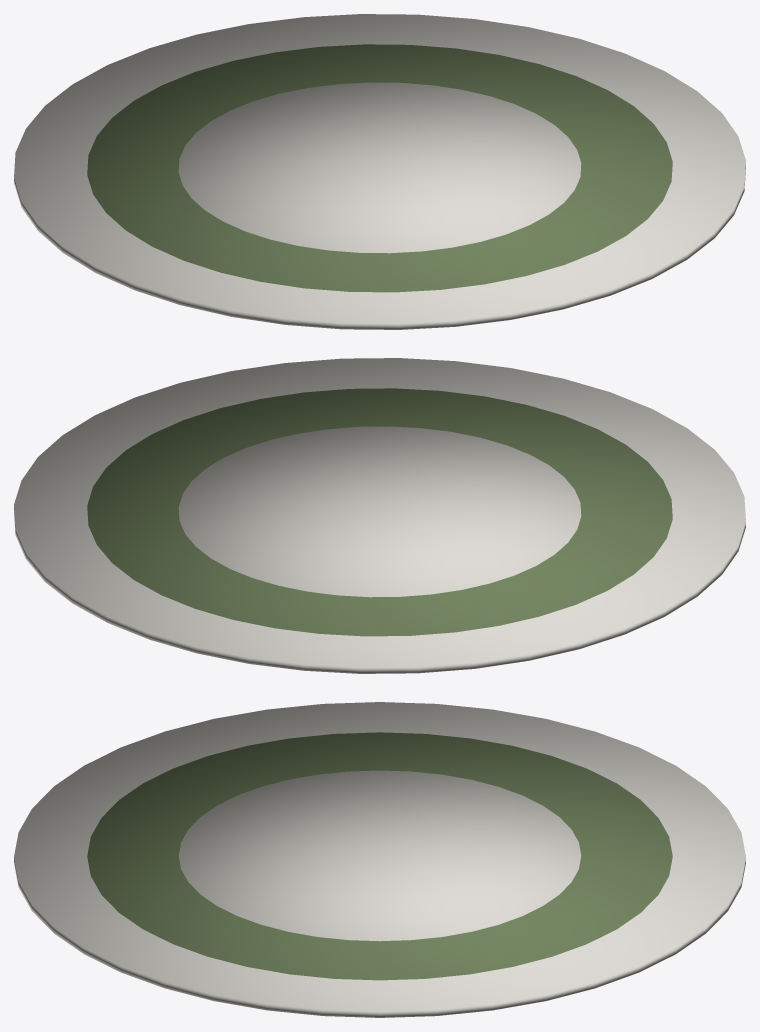
Rendered from i_rug_6.glb.
3 views of the same model, one above another, from view 1: azimuth 30°, elevation 25°; view 2: azimuth 150°, elevation 25°; view 3: azimuth 270°, elevation 25° (orthographic).
Visible parts, largest first — view 1: o, o.001, o.002; view 2: o, o.001, o.002; view 3: o, o.001, o.002.
Part boxes in pixels (<box>): o: <box>14,14,745,329</box>; o.001: <box>87,44,672,292</box>; o.002: <box>178,82,581,253</box>; o: <box>14,358,745,673</box>; o.001: <box>87,388,672,636</box>; o.002: <box>178,426,581,597</box>; o: <box>14,702,745,1017</box>; o.001: <box>87,732,672,980</box>; o.002: <box>178,770,581,941</box>.
Bounding box in the file's own units: 1.2 × 0.014 × 1.2.
